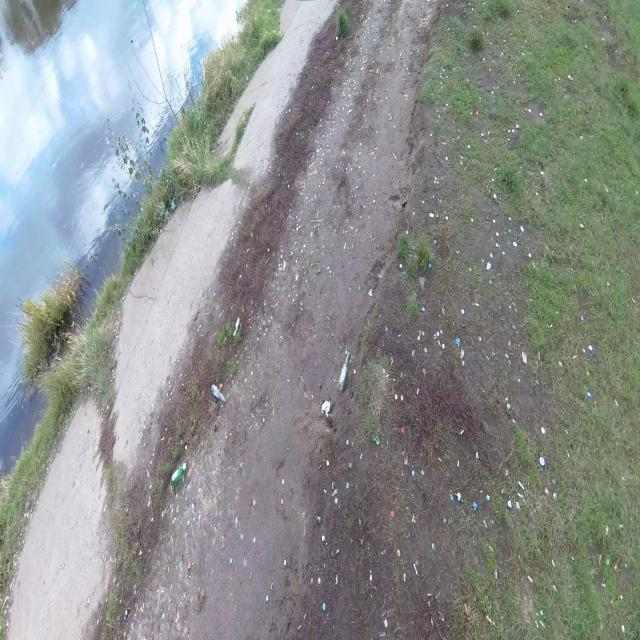rubbish: (169, 461, 189, 488), (337, 350, 350, 391), (212, 384, 226, 403), (321, 399, 331, 418)
